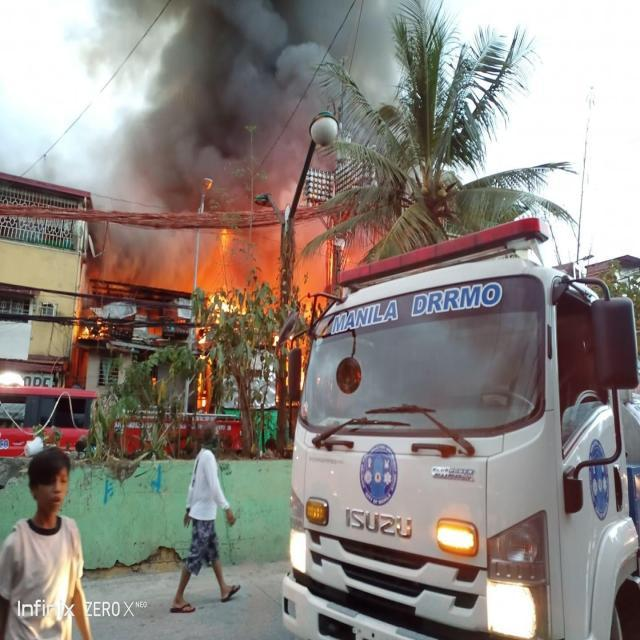Fire: (206, 232, 261, 312)
Smoke: (114, 0, 294, 197), (305, 0, 398, 96)
